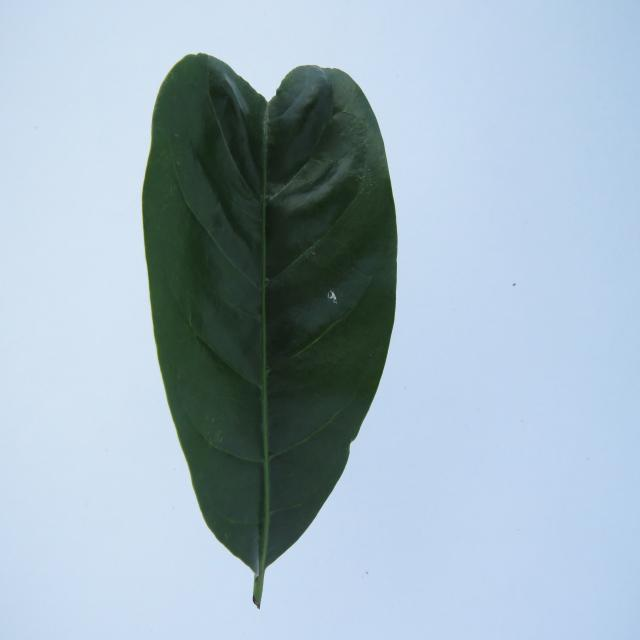DeficienciaNutricional-Boro: (142, 55, 398, 607)
